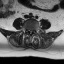CCS_stenosis: (30, 28, 31, 35)
LFS_severe_stenosis: (33, 28, 35, 32)
LLS_severe_stenosis: (31, 28, 33, 33)
RFS_severe_stenosis: (27, 27, 28, 32)
RLS_severe_stenosis: (28, 28, 30, 34)
